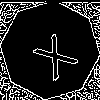X: (25, 25, 80, 82)
